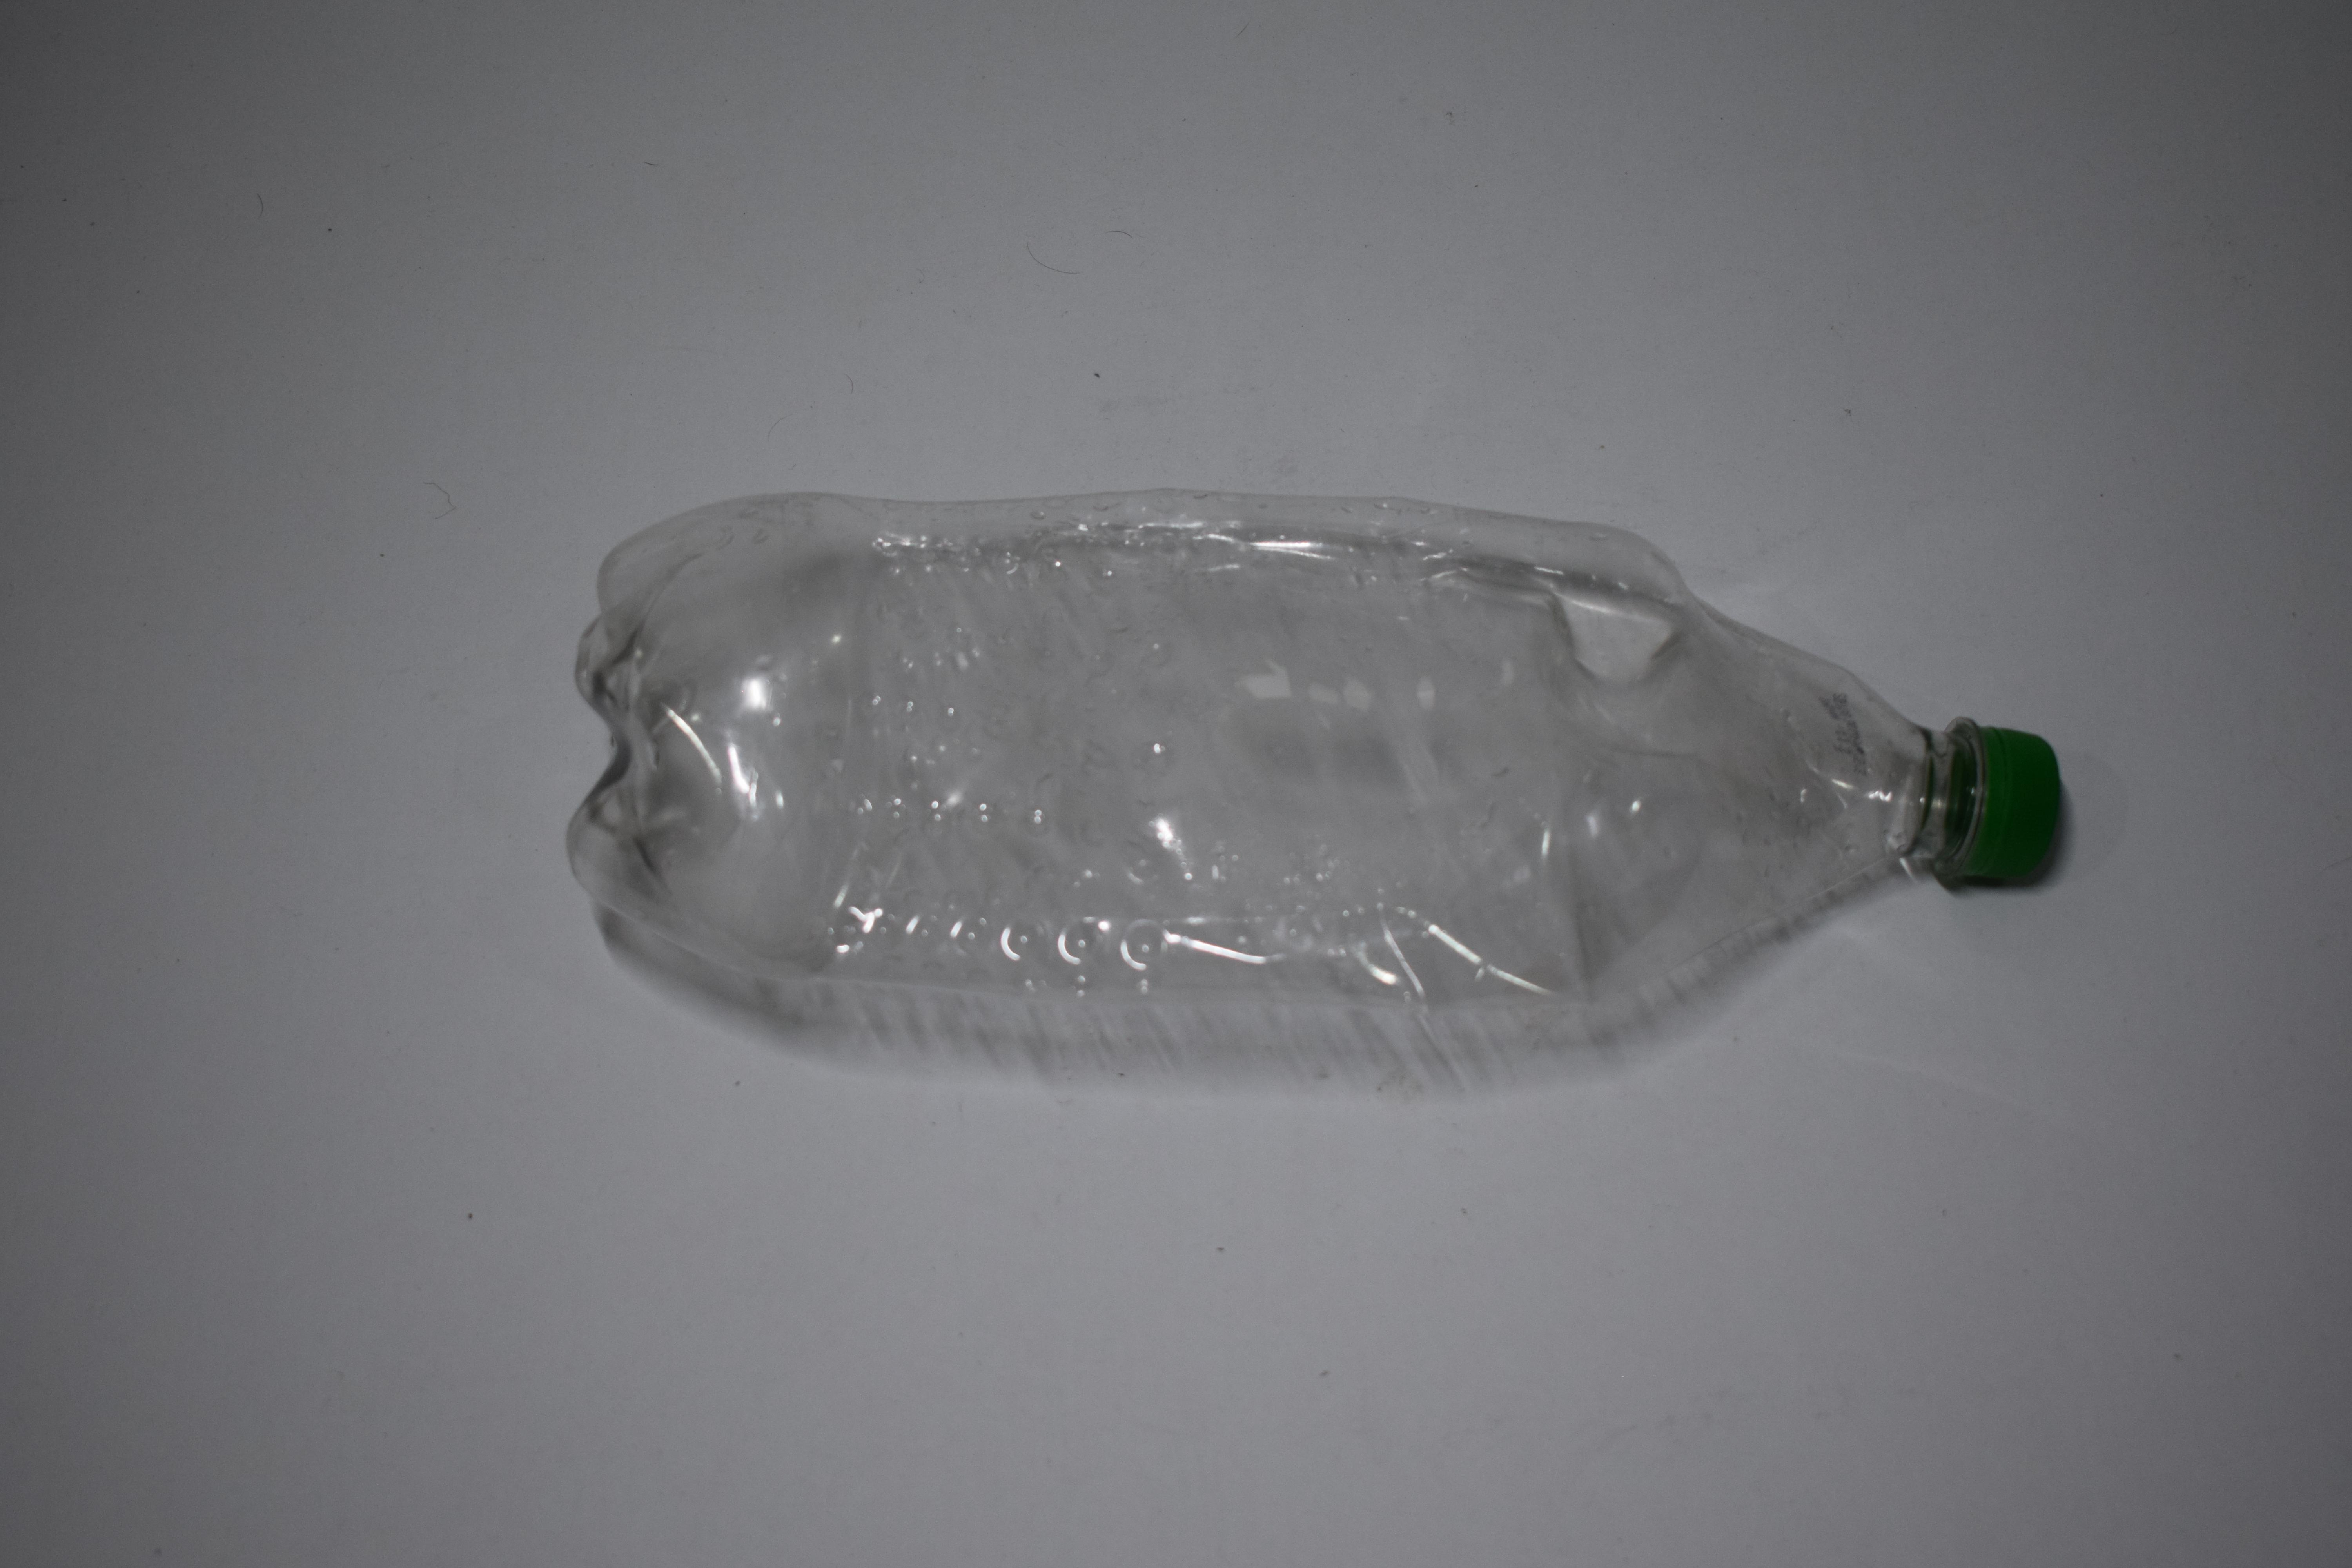bottle: (0, 483, 777, 1066)
